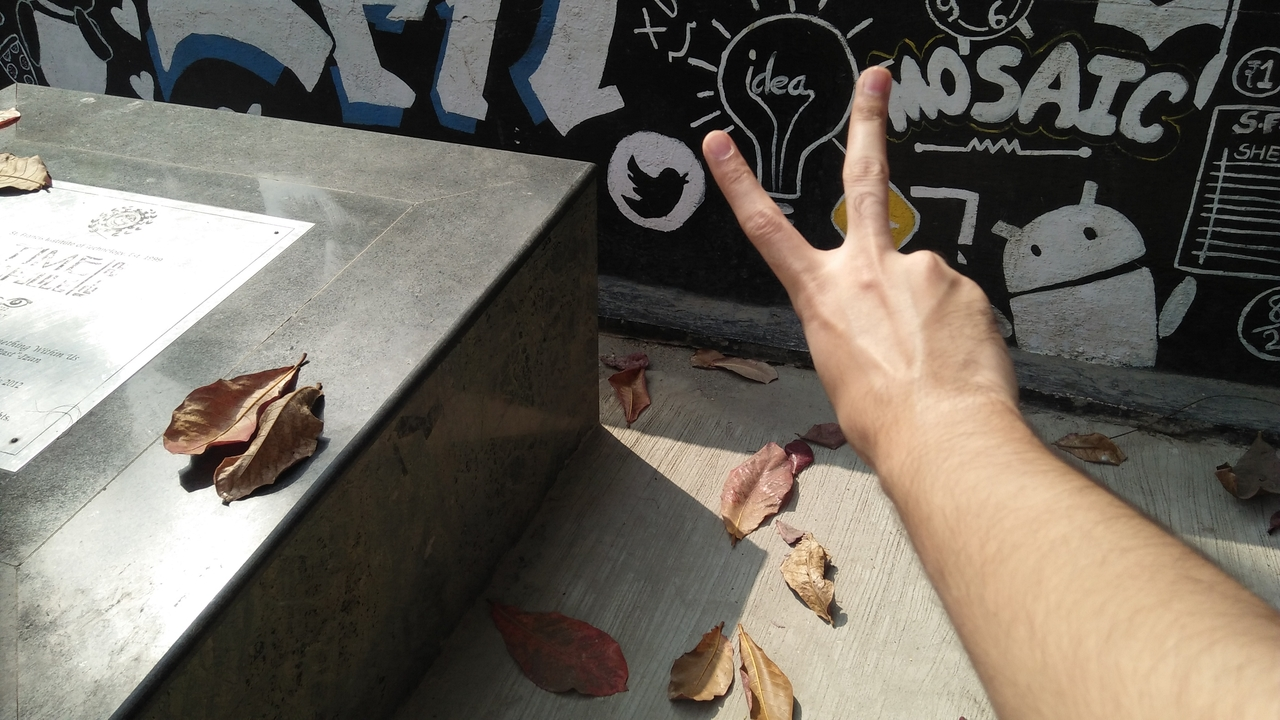fingertip: (692, 120, 756, 172), (850, 56, 904, 108)
